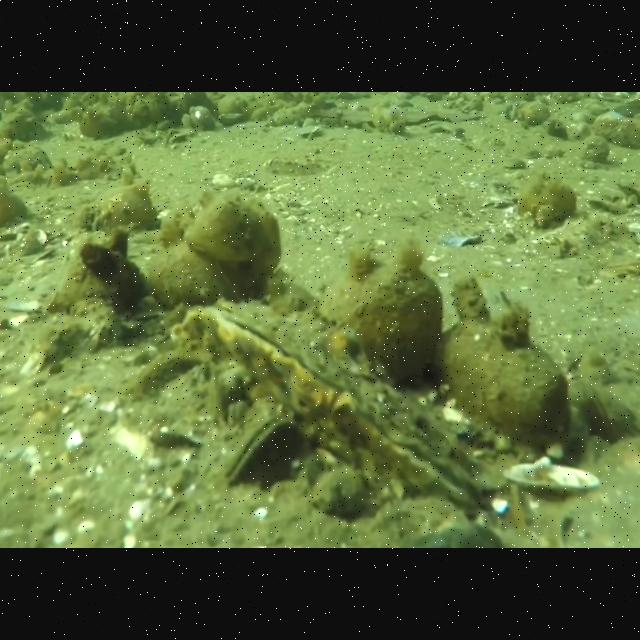Oyster-Closed: (568, 377, 636, 445)
Oyster-Open: (185, 296, 488, 512), (220, 409, 310, 496), (502, 460, 602, 500)
